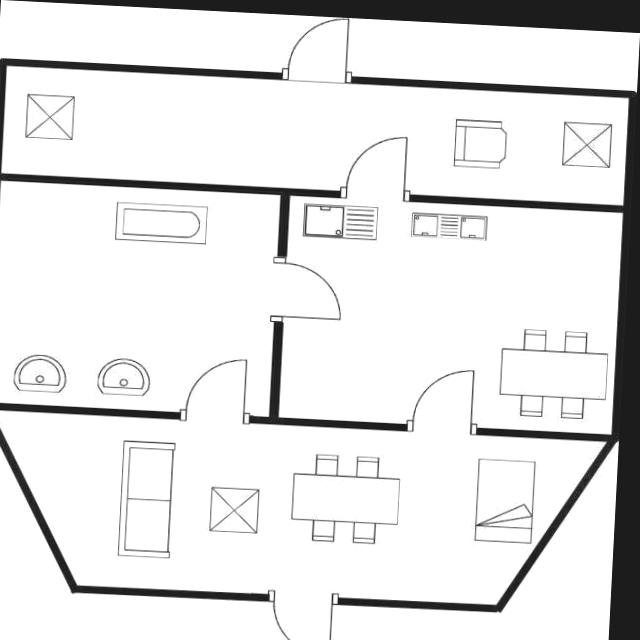room: (0, 410, 604, 613), (1, 66, 628, 206), (278, 196, 621, 434), (0, 182, 279, 417)
